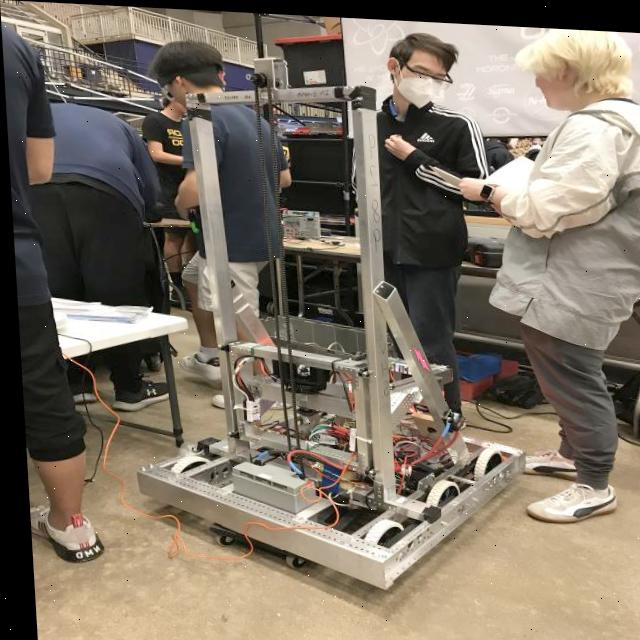robot: (106, 47, 522, 595)
